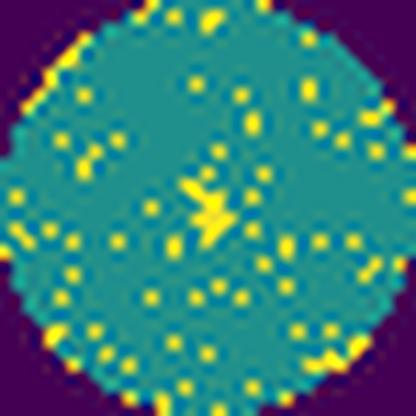Center: (178, 172, 242, 252)
